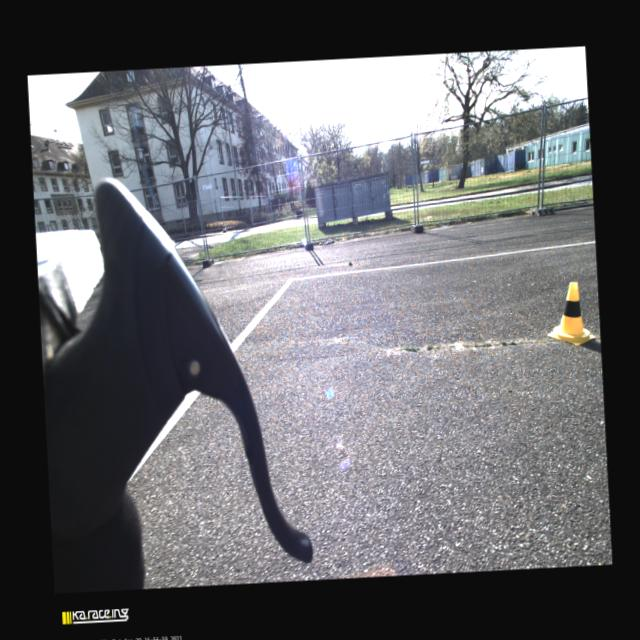yellow_cone: (544, 282, 596, 347)
